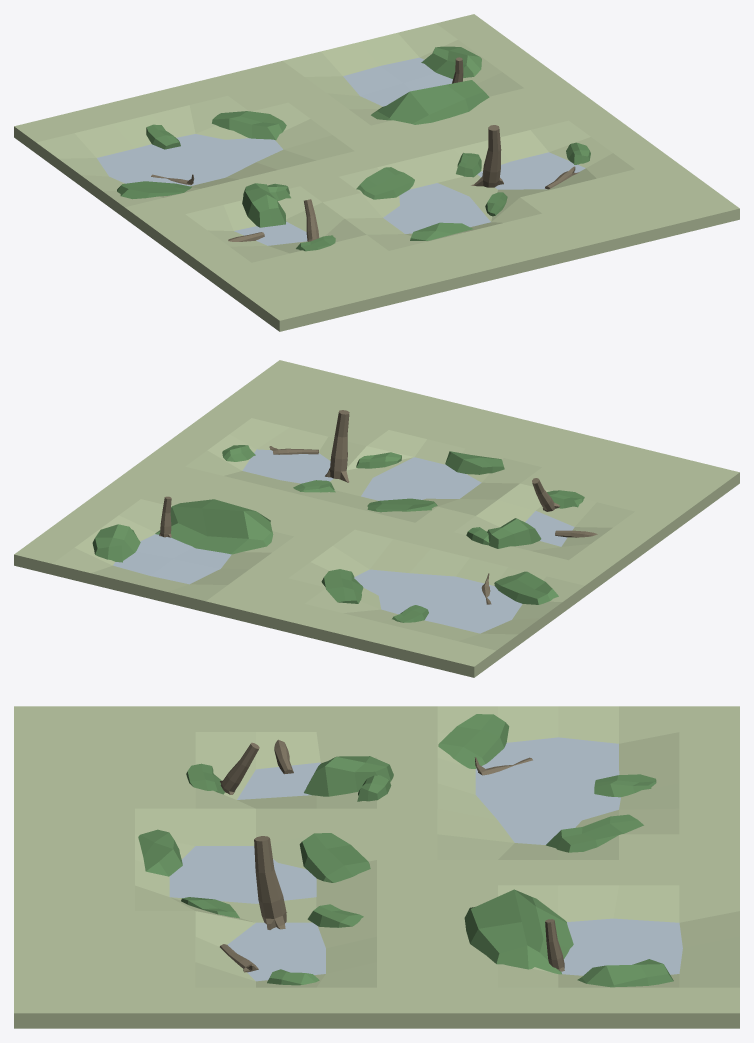
Rendered from Marshland IV.fbx.
3 views of the same model, one above another, from view 1: azimuth 30°, elevation 25°; view 2: azimuth 150°, elevation 25°; view 3: azimuth 270°, elevation 25° (orthographic). The views are drawn at different scales.
Parts seen in each view (by area): view 1: Marshland IV; view 2: Marshland IV; view 3: Marshland IV.
Part boxes in pixels (x1,y1,x2,y2): Marshland IV: (14,14,739,331); Marshland IV: (14,360,739,677); Marshland IV: (14,706,739,1028).
Size of the model in its own units: 1600 by 245 by 1600.
